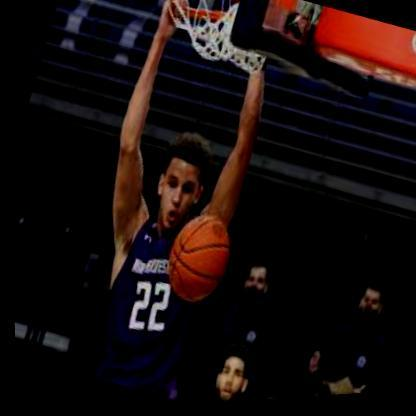basketball: (153, 209, 241, 317)
rim: (164, 0, 258, 43)
